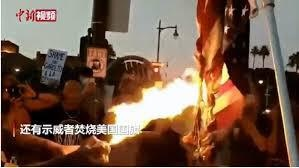fire: (112, 68, 235, 130)
